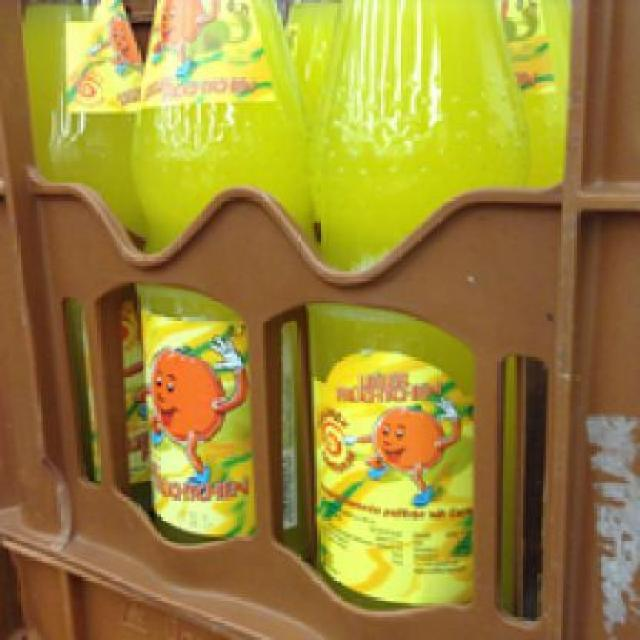Soda: (306, 0, 526, 620), (123, 3, 326, 543), (18, 0, 135, 492)
